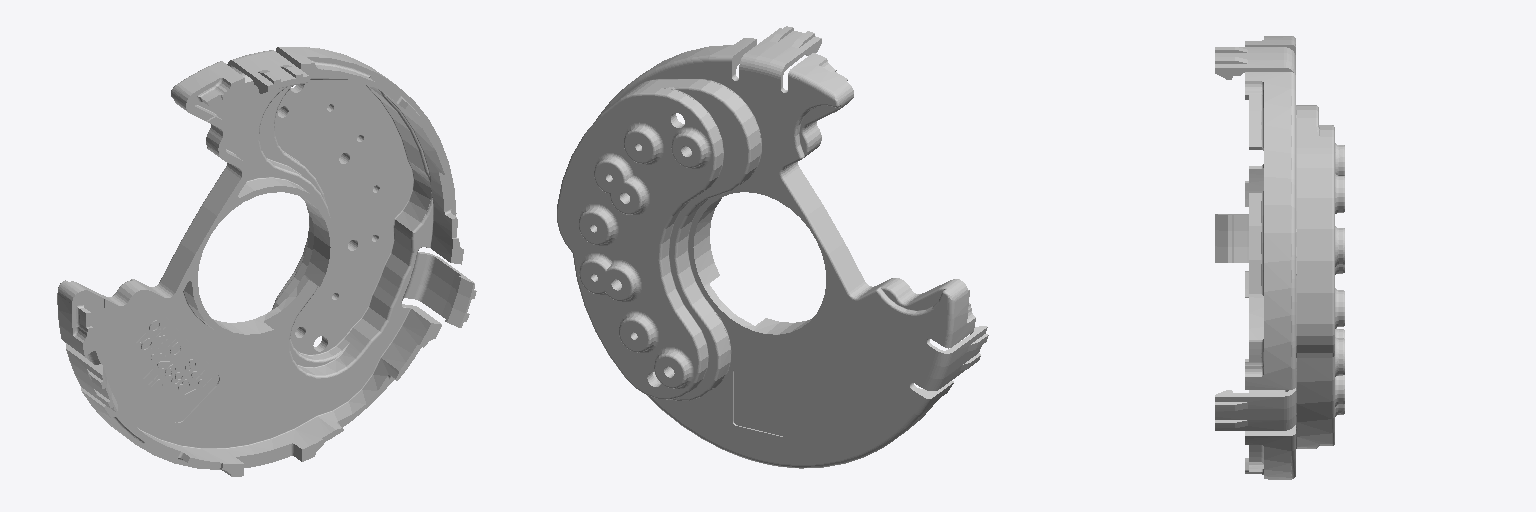
3 views of the same model, side by side, from view 1: azimuth 30°, elevation 25°; view 2: azimuth 150°, elevation 25°; view 3: azimuth 270°, elevation 25° (orthographic).
Parts seen in each view (by area): view 1: Test_Test_None_Test_Test_None_None; view 2: Test_Test_None_Test_Test_None_None; view 3: Test_Test_None_Test_Test_None_None.
Part boxes in pixels (bbox=[...]): Test_Test_None_Test_Test_None_None: bbox=[57, 47, 476, 476]; Test_Test_None_Test_Test_None_None: bbox=[557, 26, 988, 468]; Test_Test_None_Test_Test_None_None: bbox=[1215, 36, 1344, 479].
Bounding box in the file's own units: 13.32 × 13.42 × 3.92.